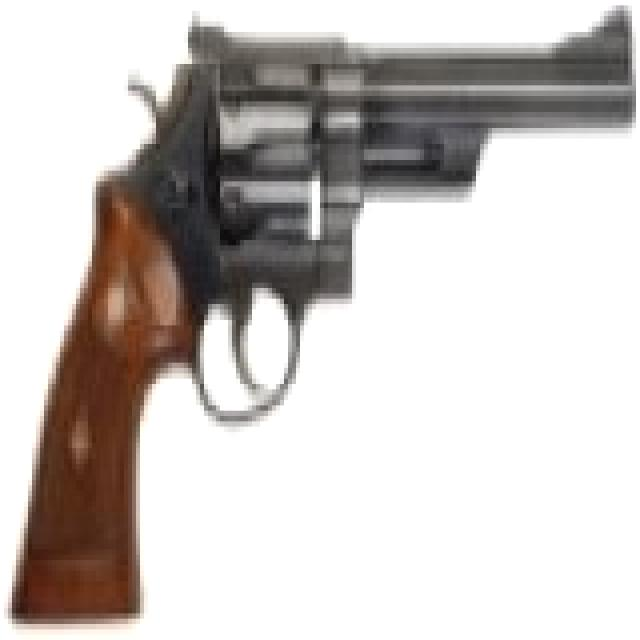pistol: (20, 5, 640, 624)
